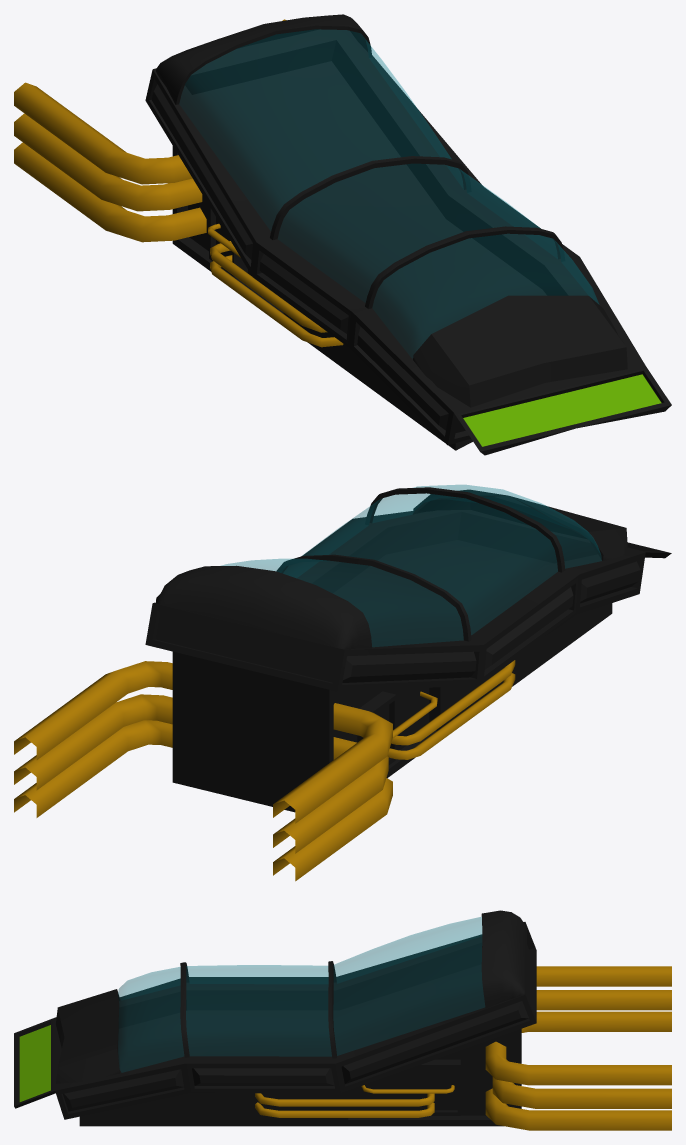
The model's file is StatisPodFBX.fbx.
3 views of the same model, one above another, from view 1: azimuth 30°, elevation 25°; view 2: azimuth 150°, elevation 25°; view 3: azimuth 270°, elevation 25° (orthographic). The views are drawn at different scales.
Parts seen in each view (by area): view 1: polySurface2; view 2: polySurface2; view 3: polySurface2.
Part boxes in pixels (bbox=[...]): polySurface2: bbox=[14, 14, 671, 455]; polySurface2: bbox=[14, 485, 671, 881]; polySurface2: bbox=[14, 910, 671, 1130].
Bounding box in the file's own units: 94.52 × 68.04 × 245.
